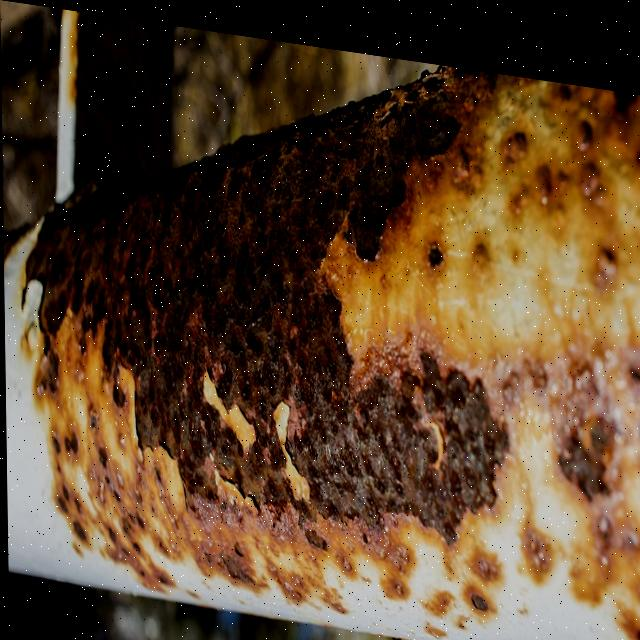corrosion: (15, 2, 640, 640)
